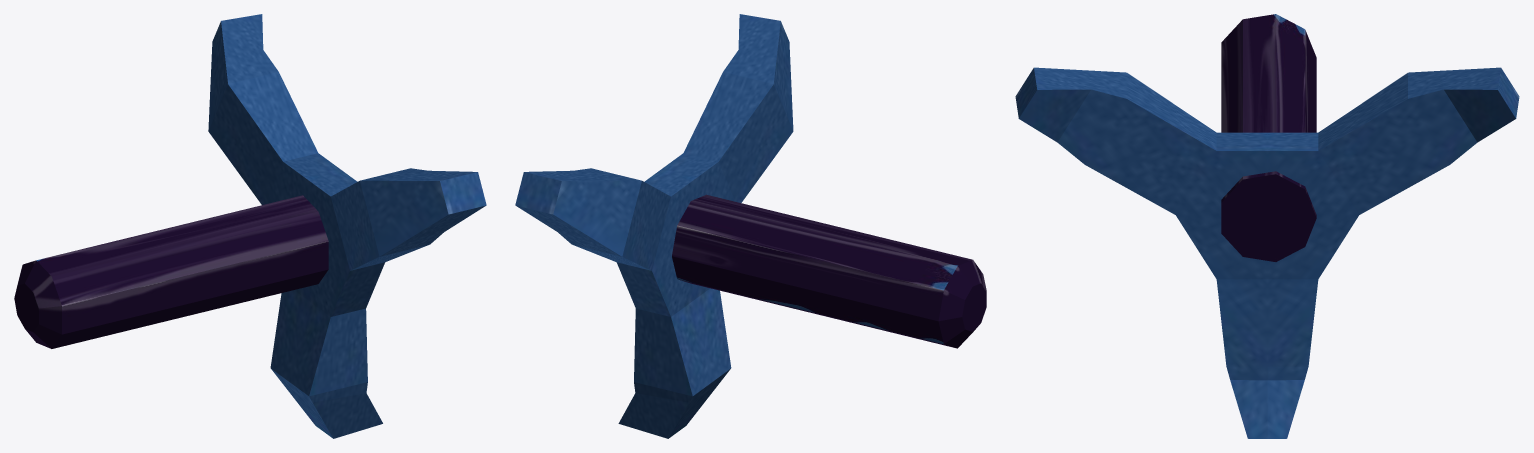
File: Hook.fbx
3 views of the same model, side by side, from view 1: azimuth 30°, elevation 25°; view 2: azimuth 150°, elevation 25°; view 3: azimuth 270°, elevation 25° (orthographic). The views are drawn at different scales.
Parts seen in each view (by area): view 1: Hook; view 2: Hook; view 3: Hook.
Boxes of the visible parts, x1,y1,x2,y2 form: Hook: (14, 14, 486, 438); Hook: (515, 14, 986, 438); Hook: (1015, 14, 1519, 438).
Bounding box in the file's own units: 55.27 × 50.03 × 64.93.
